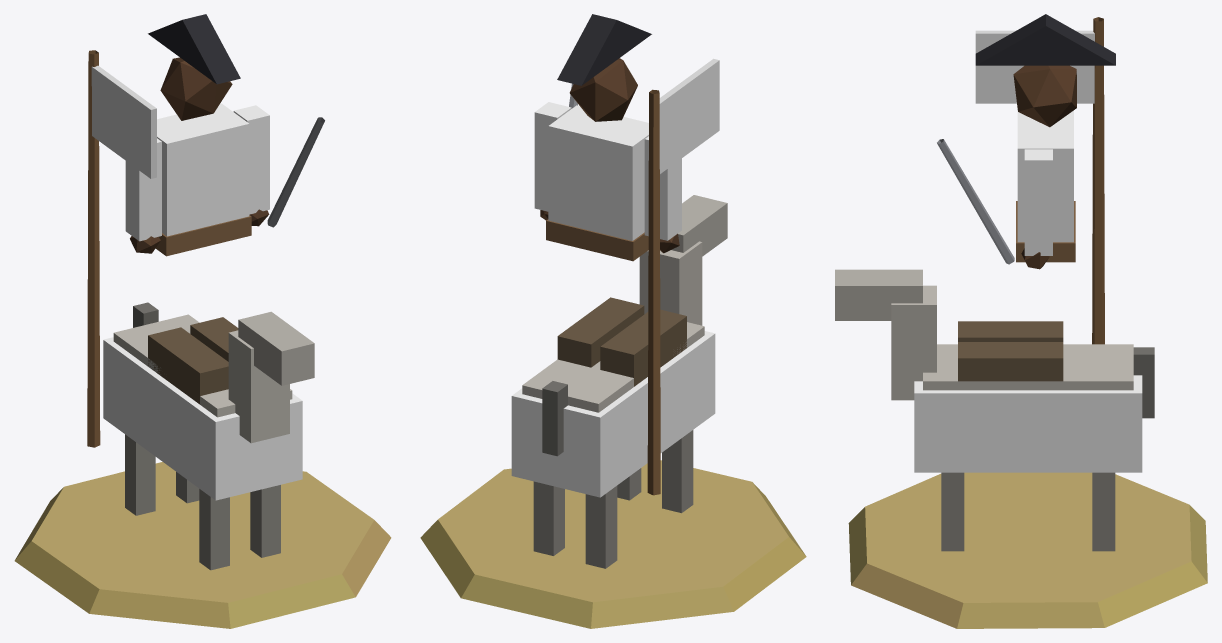
The model's file is Great General.glb.
The picture shows the model from 3 angles, left to right: view 1: azimuth 30°, elevation 25°; view 2: azimuth 150°, elevation 25°; view 3: azimuth 270°, elevation 25°; orthographic projection. The views are drawn at different scales.
Parts seen in each view (by area): view 1: Units_Great General; view 2: Units_Great General; view 3: Units_Great General.
Part boxes in pixels (left/top/right/bottom): Units_Great General: left=14, top=14, right=391, bottom=628; Units_Great General: left=420, top=14, right=806, bottom=628; Units_Great General: left=835, top=14, right=1207, bottom=628.
Size of the model in its own units: 0.2045 by 0.335 by 0.2122.
